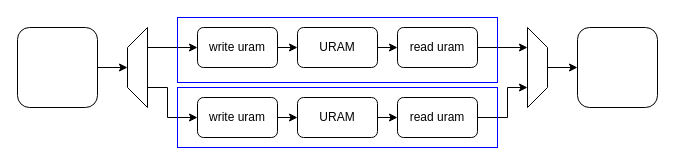
This 675x165 diagram has some shape labels left out. Each missing label, with the centre of its shape:
"AIE" belongs at point 617,67.
"DDR" belongs at point 57,67.
